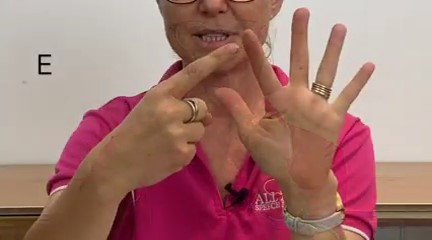E: (102, 3, 382, 207)
